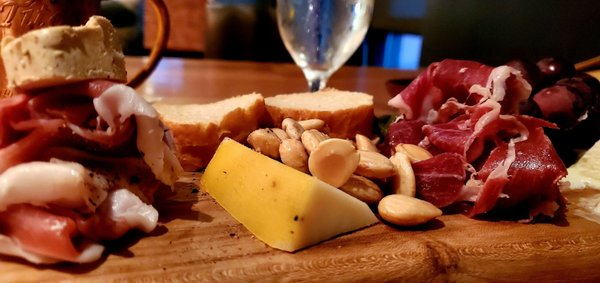soup: (0, 16, 188, 265)
